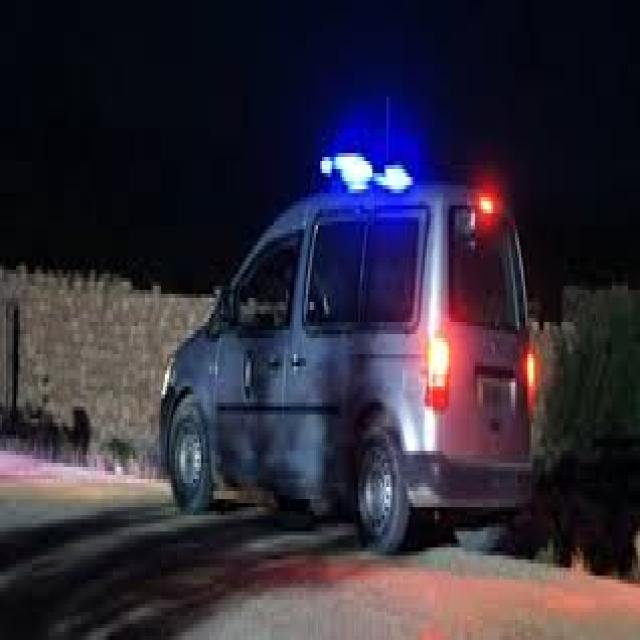gendarme car: (154, 139, 541, 563)
